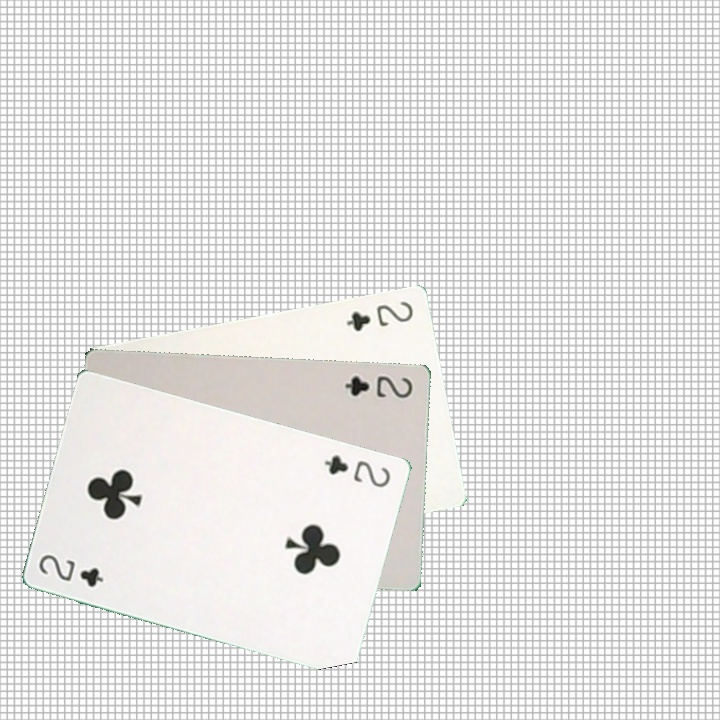2c: (320, 450, 393, 490), (34, 550, 106, 590), (342, 297, 416, 334), (341, 371, 415, 401)
